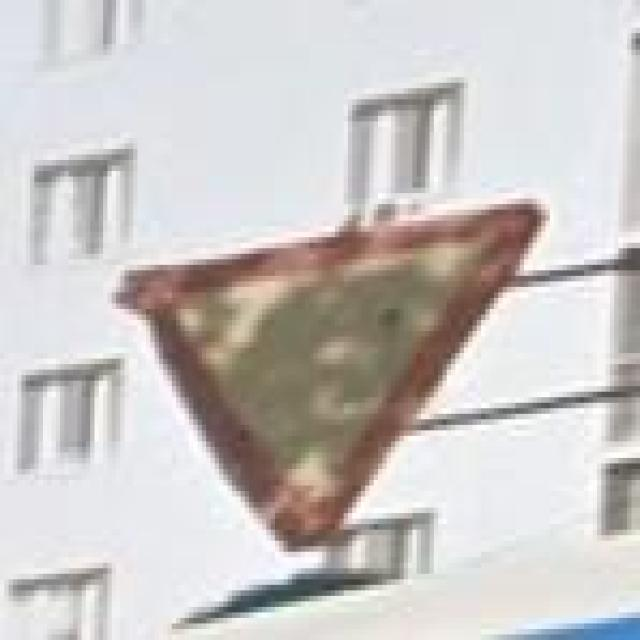give_way: (103, 193, 546, 552)
